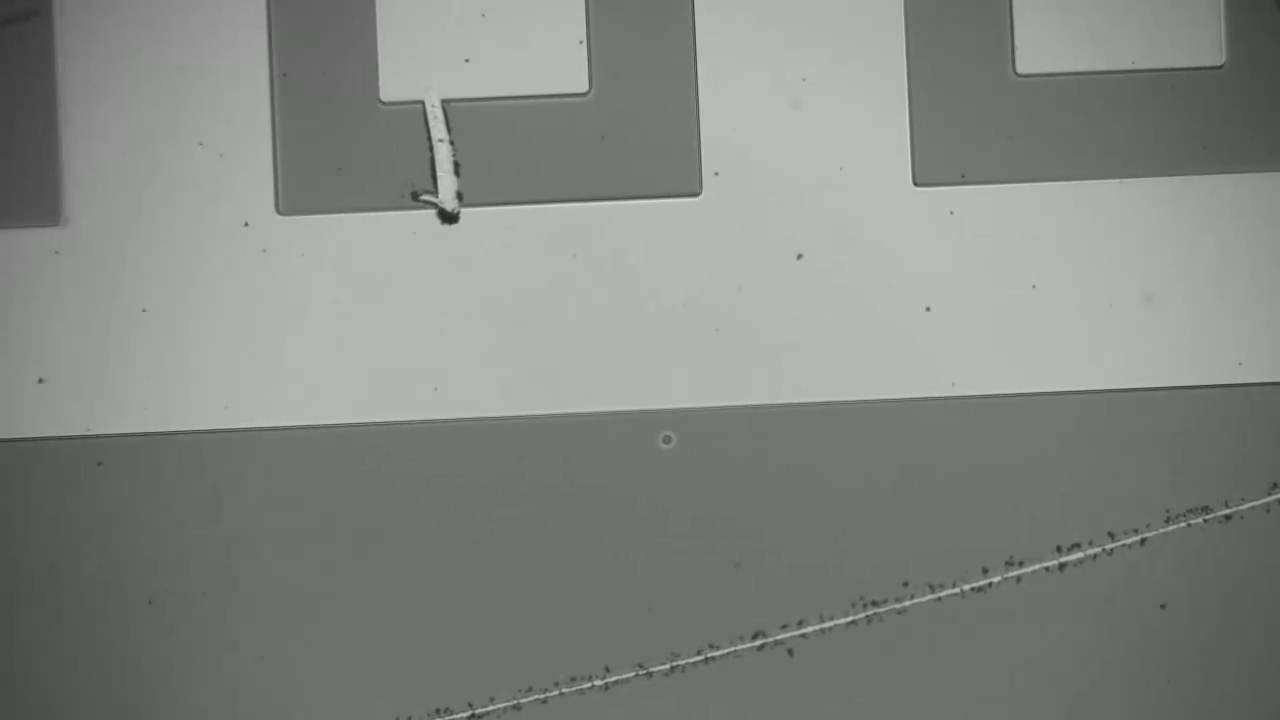scratch: (413, 496, 1276, 720)
short_cricuit: (397, 77, 489, 250)
